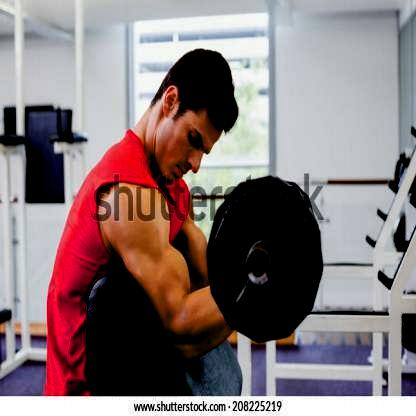Barbell: (243, 239, 276, 293)
